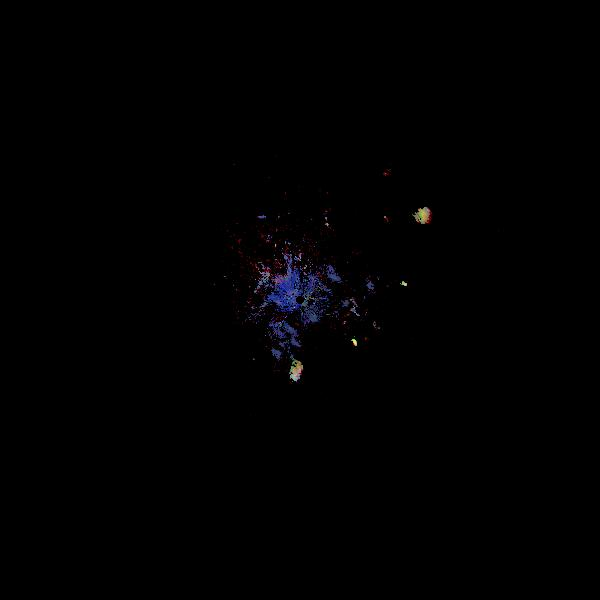roost: (284, 360, 308, 384), (413, 205, 437, 229), (349, 337, 361, 349)
